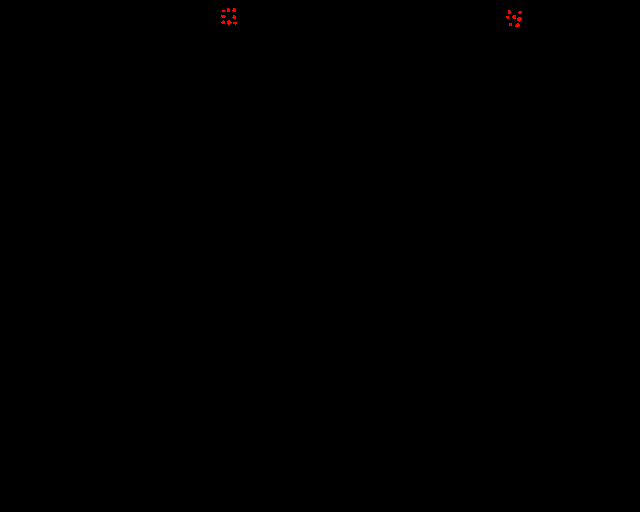Target: (517, 17, 522, 22), (227, 20, 232, 25), (515, 23, 520, 27), (232, 8, 236, 12), (232, 15, 236, 19), (512, 15, 516, 19), (221, 20, 225, 24), (221, 15, 226, 18), (227, 8, 230, 12), (508, 10, 511, 14), (518, 11, 522, 14), (233, 22, 237, 25), (506, 16, 509, 19), (509, 23, 512, 26), (222, 10, 225, 12)
